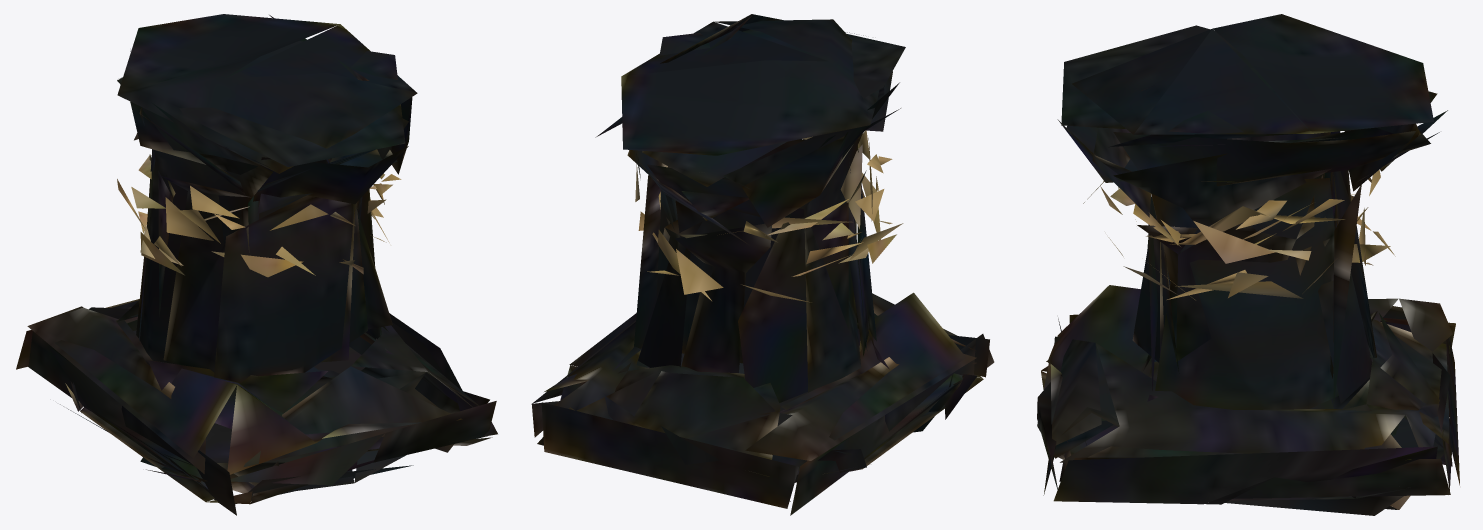
The model's file is hafen_poller.glb.
3 views of the same model, side by side, from view 1: azimuth 30°, elevation 25°; view 2: azimuth 150°, elevation 25°; view 3: azimuth 270°, elevation 25° (orthographic). The views are drawn at different scales.
Visible parts, largest first — view 1: Prop; view 2: Prop; view 3: Prop.
Part boxes in pixels (left/top/right/bottom): Prop: left=16, top=14, right=497, bottom=515; Prop: left=531, top=14, right=994, bottom=515; Prop: left=1037, top=14, right=1459, bottom=515.
Bounding box in the file's own units: 0.8914 × 1.05 × 1.07.
1 material, 1 textured.
